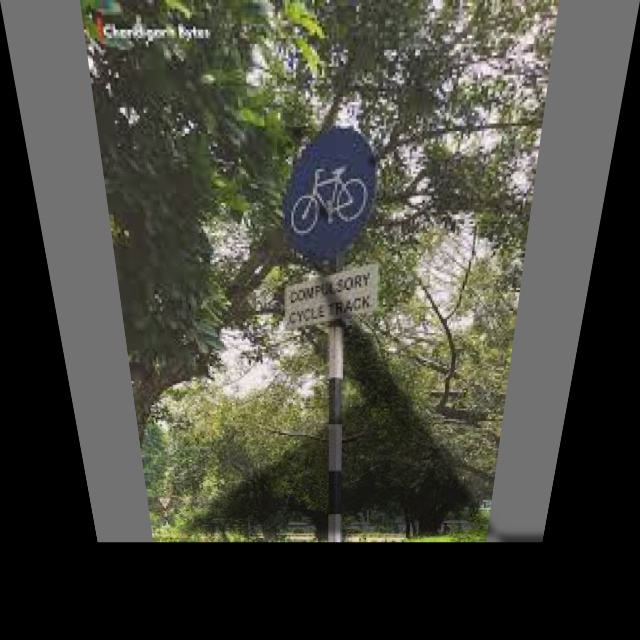Compulsory_Cycle_Track: (277, 127, 390, 259)
